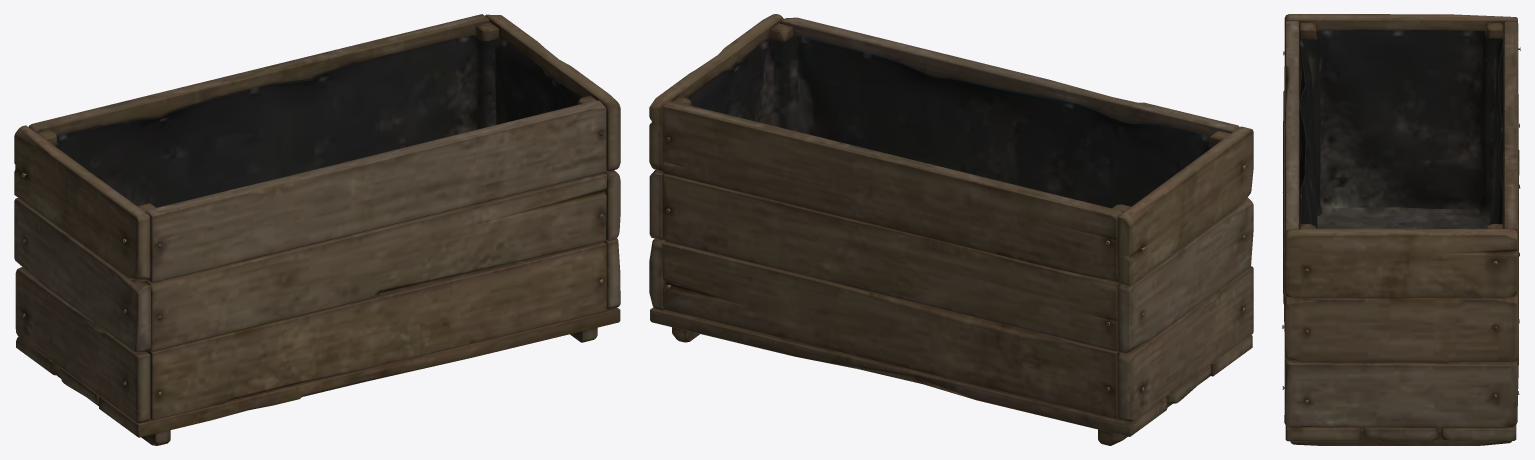
The model's file is planter_box_01.glb.
3 renders of one model, left to right at view 1: azimuth 30°, elevation 25°; view 2: azimuth 150°, elevation 25°; view 3: azimuth 270°, elevation 25°, orthographic. The views are drawn at different scales.
Visible parts, largest first — view 1: planter_box_01; view 2: planter_box_01; view 3: planter_box_01.
Part boxes in pixels (left/top/right/bottom): planter_box_01: left=14, top=14, right=620, bottom=445; planter_box_01: left=649, top=14, right=1253, bottom=445; planter_box_01: left=1282, top=14, right=1520, bottom=445.
Size of the model in its own units: 0.9126 by 0.4249 by 0.4137.
Materials: 1 (1 with a texture image).
